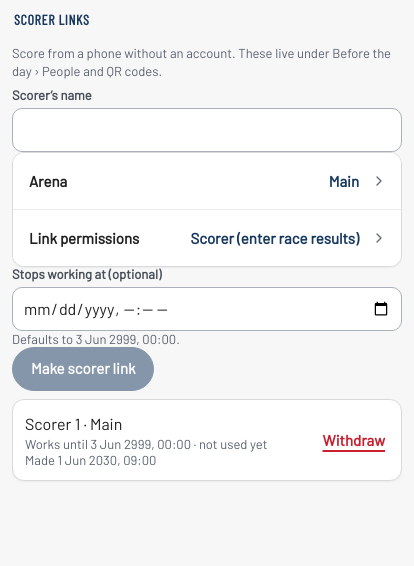
Test: ScorerLinksCard › says when withdrawing fails
Click the button with aria-label "Withdraw Scorer 1’s link".
click(354, 440)  # box [318,418,389,462]
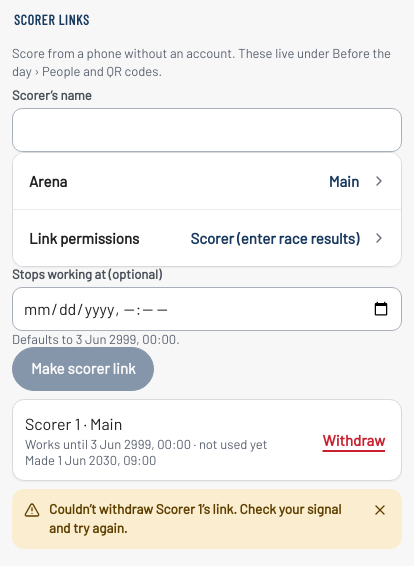
Expected: the message shows "Couldn’t withdraw Scorer 1’s link", [49,500,341,536]
